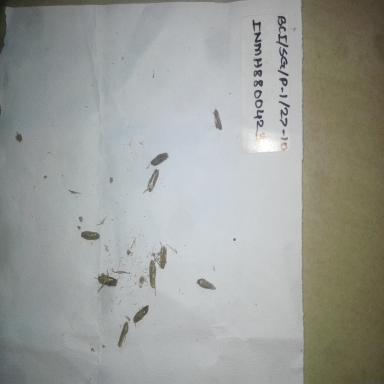pbw: (93, 272, 119, 293), (115, 319, 131, 349), (146, 166, 164, 192), (131, 302, 151, 325), (147, 258, 159, 290), (150, 148, 170, 167), (212, 105, 224, 131), (157, 244, 169, 270), (195, 277, 217, 291), (80, 228, 102, 242)
